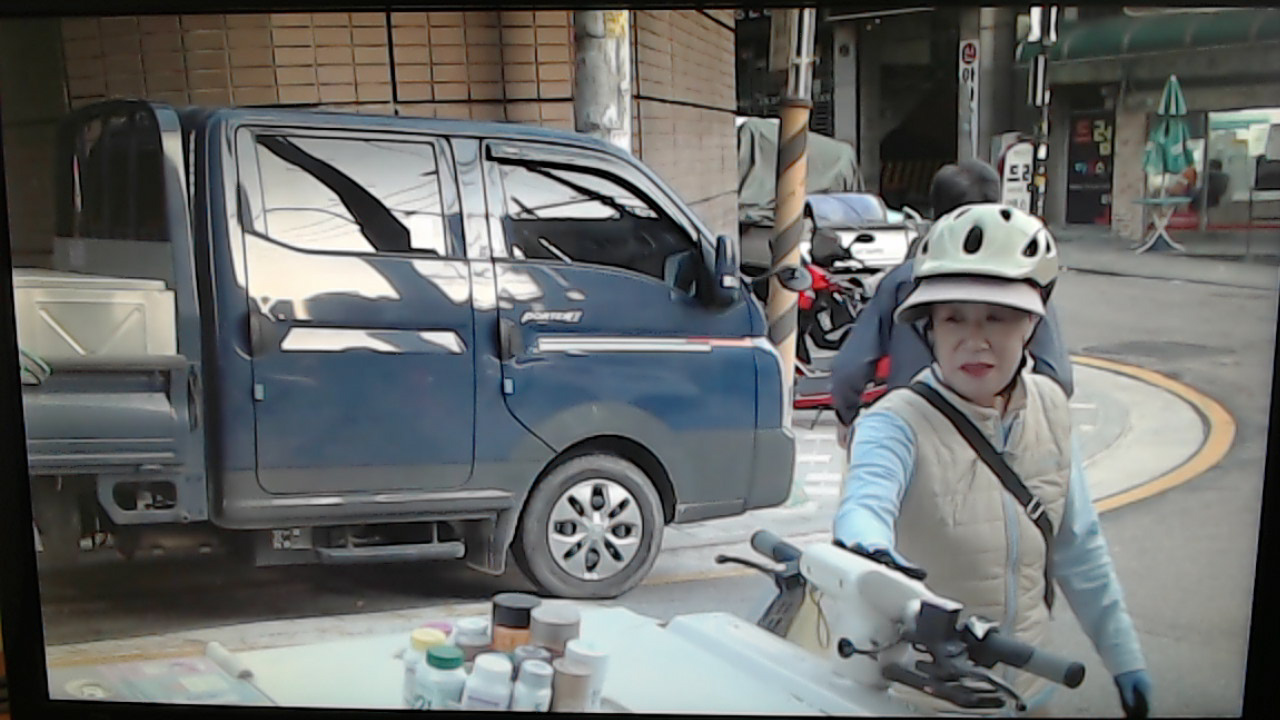Yakurut: (842, 164, 1171, 712)
